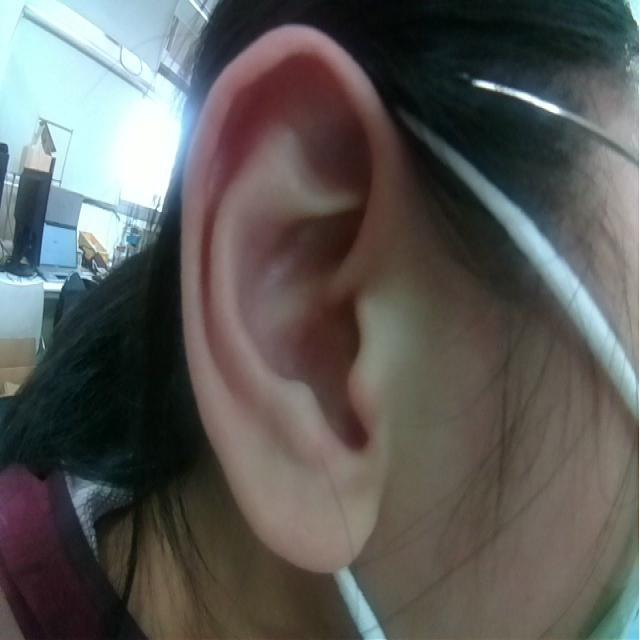no-earmuff: (173, 23, 395, 577)
